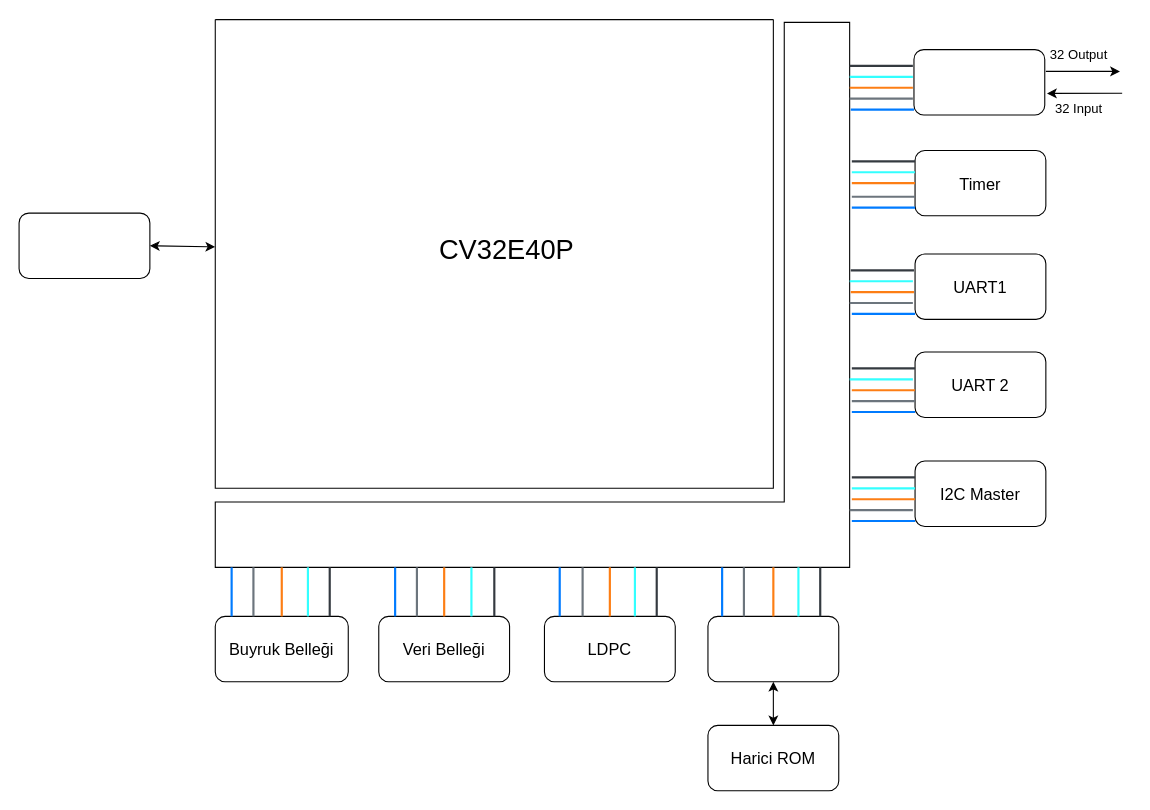
Some shapes in this 1150 by 810 pixel diagram are drawn without their labels. Each missing label, with the centre of its shape:
AXI Interconnect: point 532,294
GPIO 32 Pin I/O: point 979,82
JTAG: point 84,245
QSPI: point 773,648
